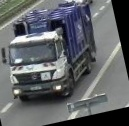car: (62, 0, 95, 11)
